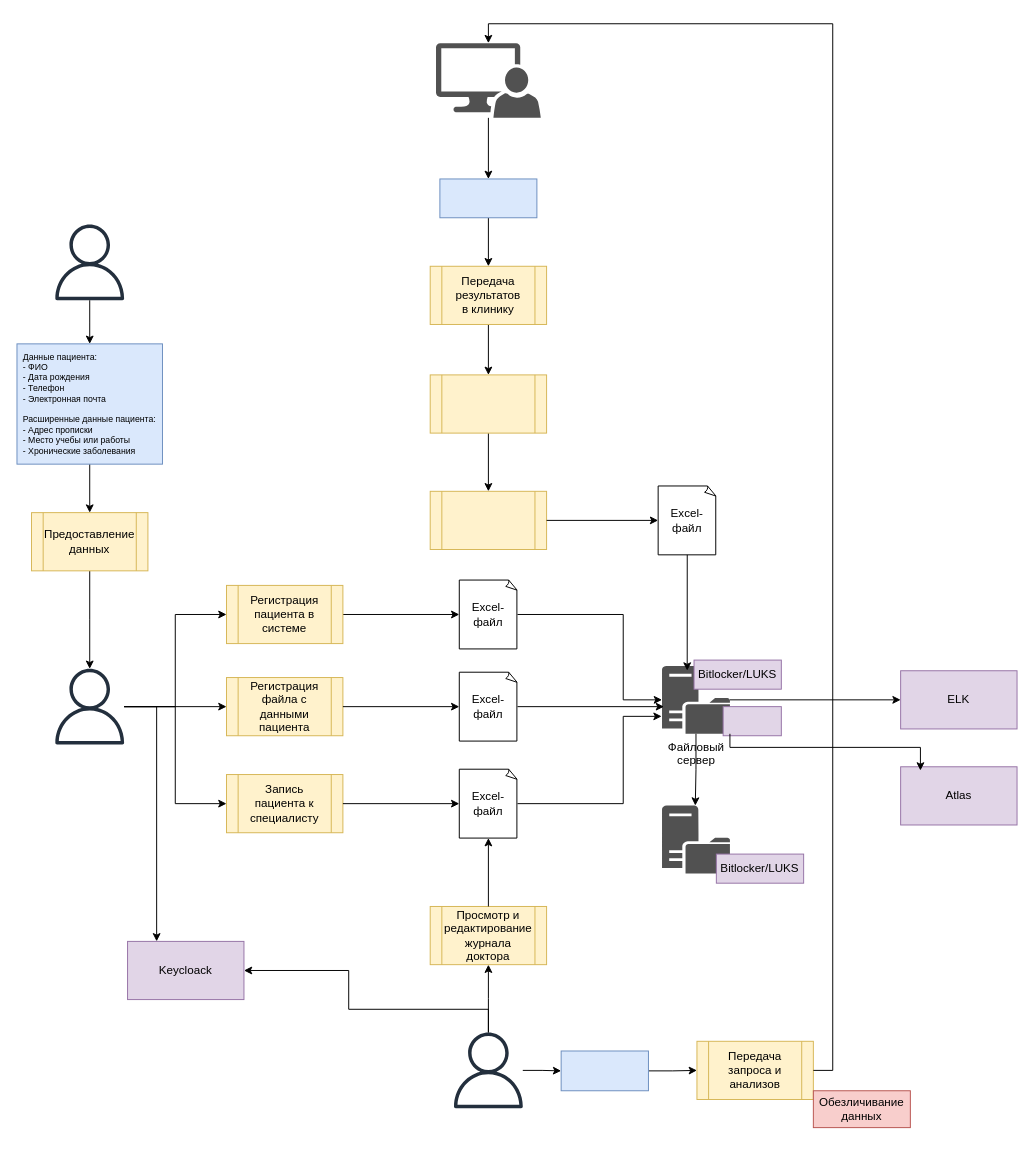
The diagram is 1034 pixels wide and 1160 high, and some of its shapes have lost their labels. The centre of each missing label's shape, as x and y in pixels:
"Veeam" belongs at point 751,721.
"Администратор" belongs at point 89,706.
"Бэкап" belongs at point 695,839.
"Запрос на проведение анализов" belongs at point 604,1070.
"Медицинские лаборатории" belongs at point 488,80.
"Медицинский специалист" belongs at point 488,1070.
"Пациент" belongs at point 89,262.
"Получение результатов анализов" belongs at point 488,403.
"Результаты по анализам" belongs at point 488,198.
"Учёт анализов" belongs at point 488,520.
